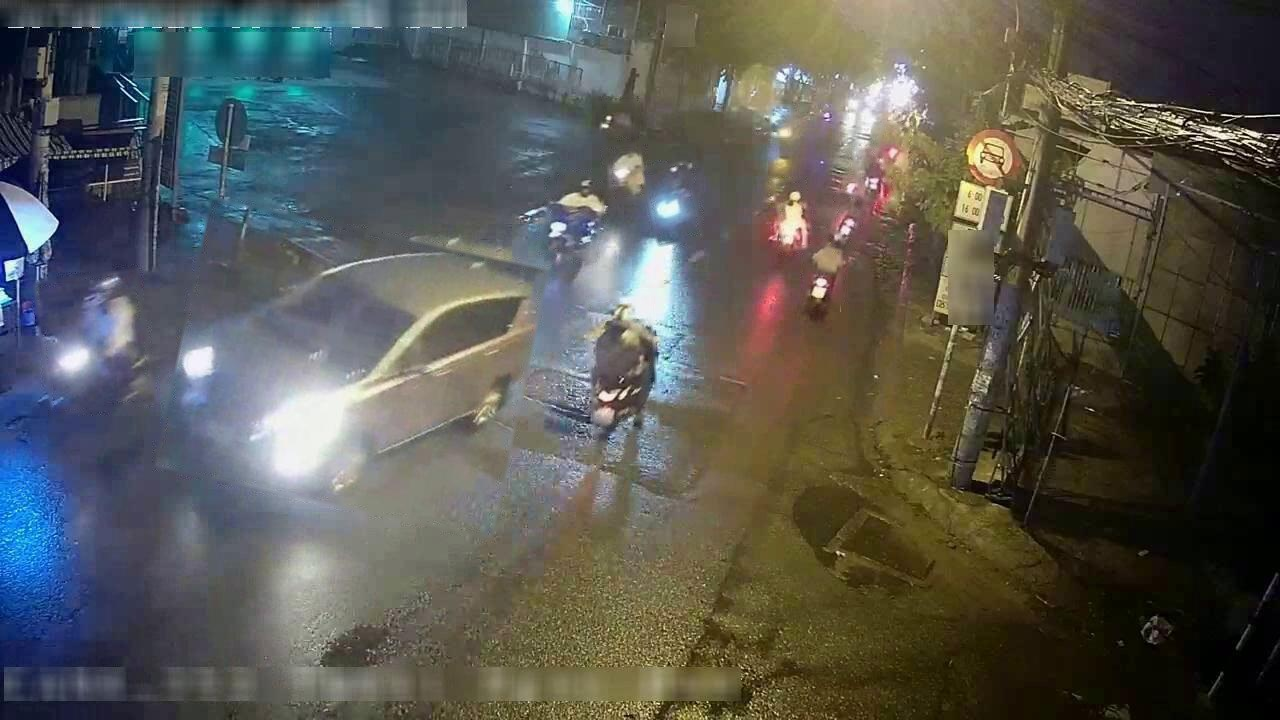Car: (171, 247, 539, 491), (641, 162, 704, 238)
Motorcyclist: (45, 275, 150, 407), (590, 304, 658, 430), (547, 179, 607, 261), (805, 236, 845, 315), (774, 189, 809, 251), (855, 147, 893, 199), (832, 193, 863, 249), (610, 150, 645, 198), (874, 121, 908, 165), (599, 103, 636, 141), (771, 106, 794, 144)
